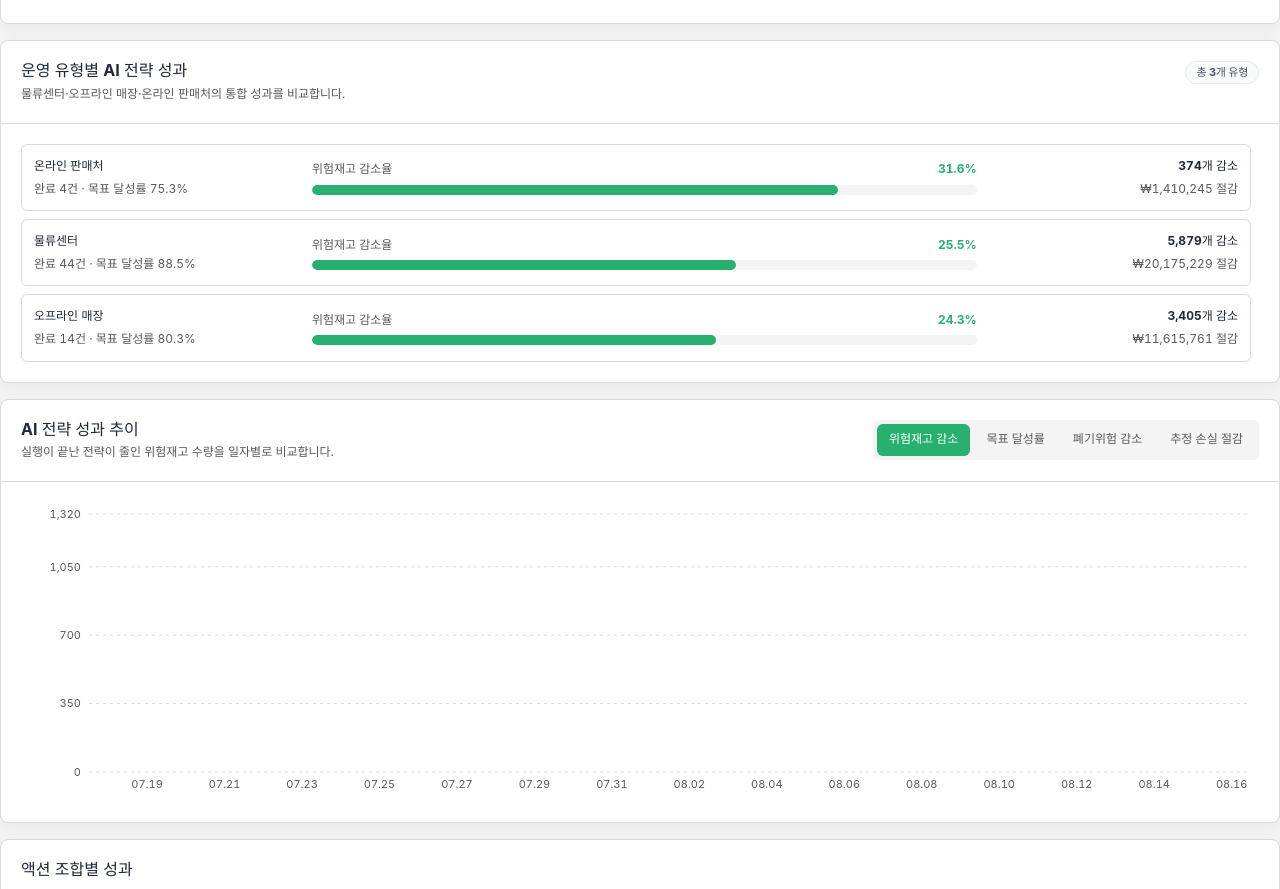
Test case: StatisticsPageContent › AI 전략 지표마다 의미에 맞는 서로 다른 차트를 보여준다
The image size is (1280, 889).
(page scrolled)
Expected: the picture named "위험재고 감소 일별 막대 차트" is shown, [21,502,1259,802]
Click the button "목표 달성률" at (1016, 440), box [974,424,1057,456]
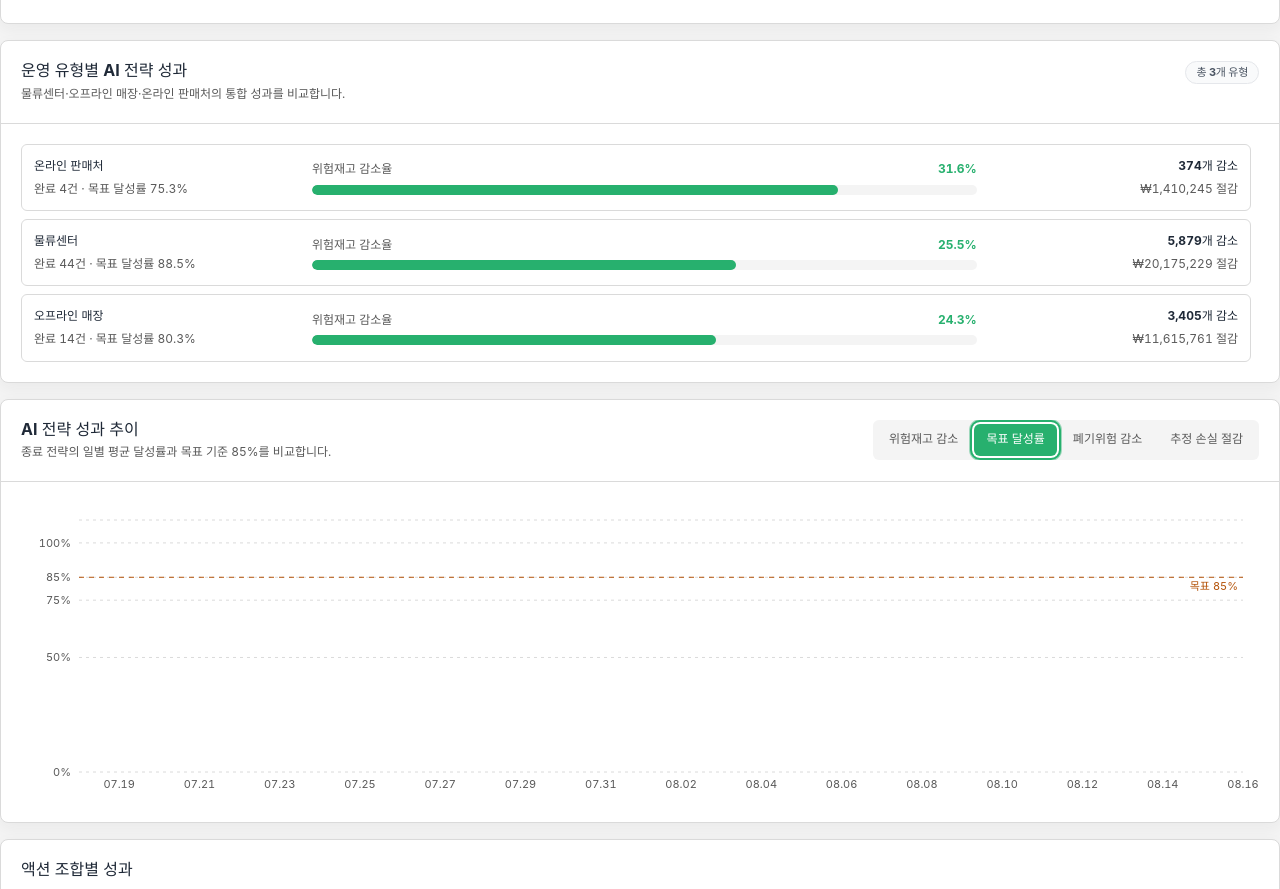
Result: the picture named "목표 달성률 목표선 비교 차트" is shown at [21,502,1259,802]
Click the button "폐기위험 감소" at (1108, 440), box [1061,424,1154,456]
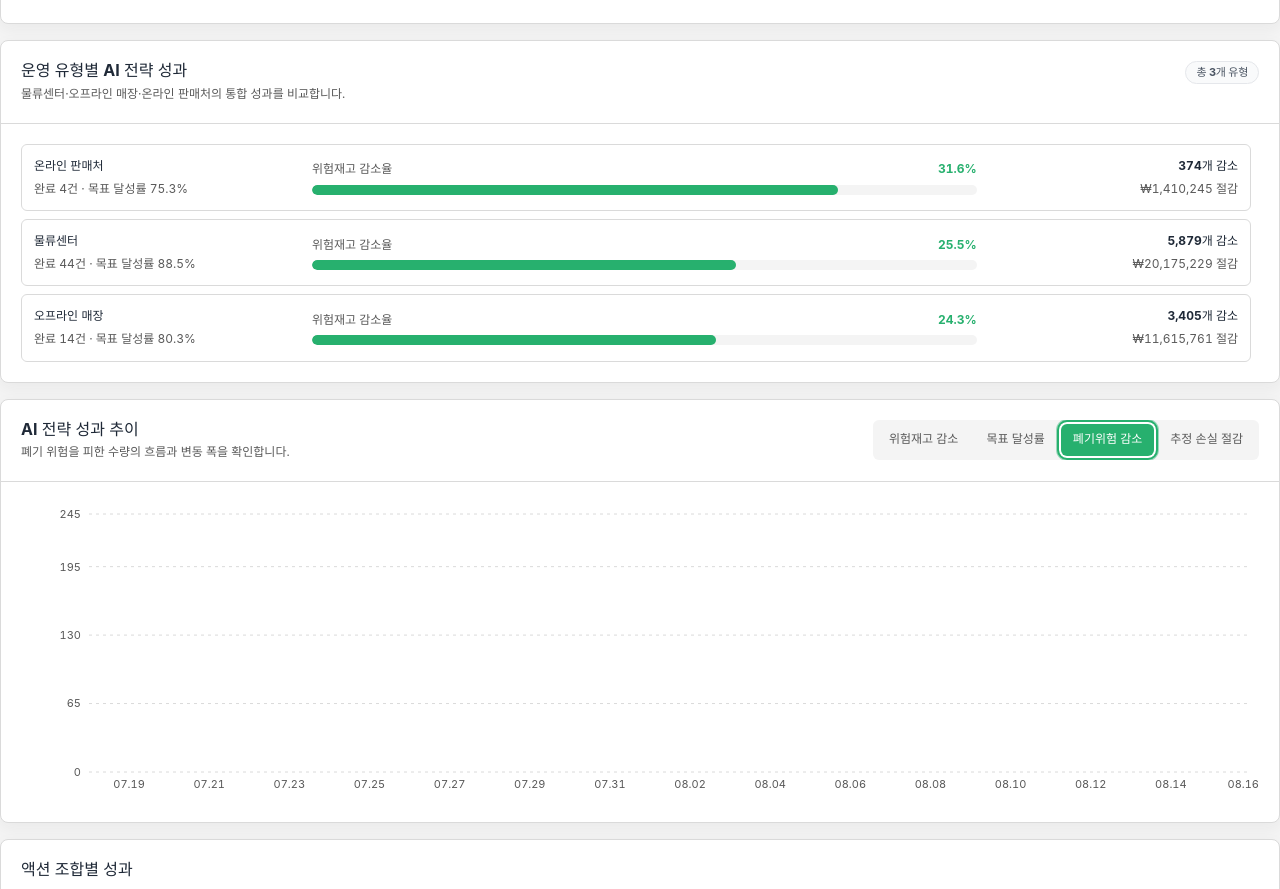
Result: the picture named "폐기위험 감소 영역 차트" is shown at [21,502,1259,802]
Click the button "추정 손실 절감" at (1207, 440), box [1158,424,1255,456]
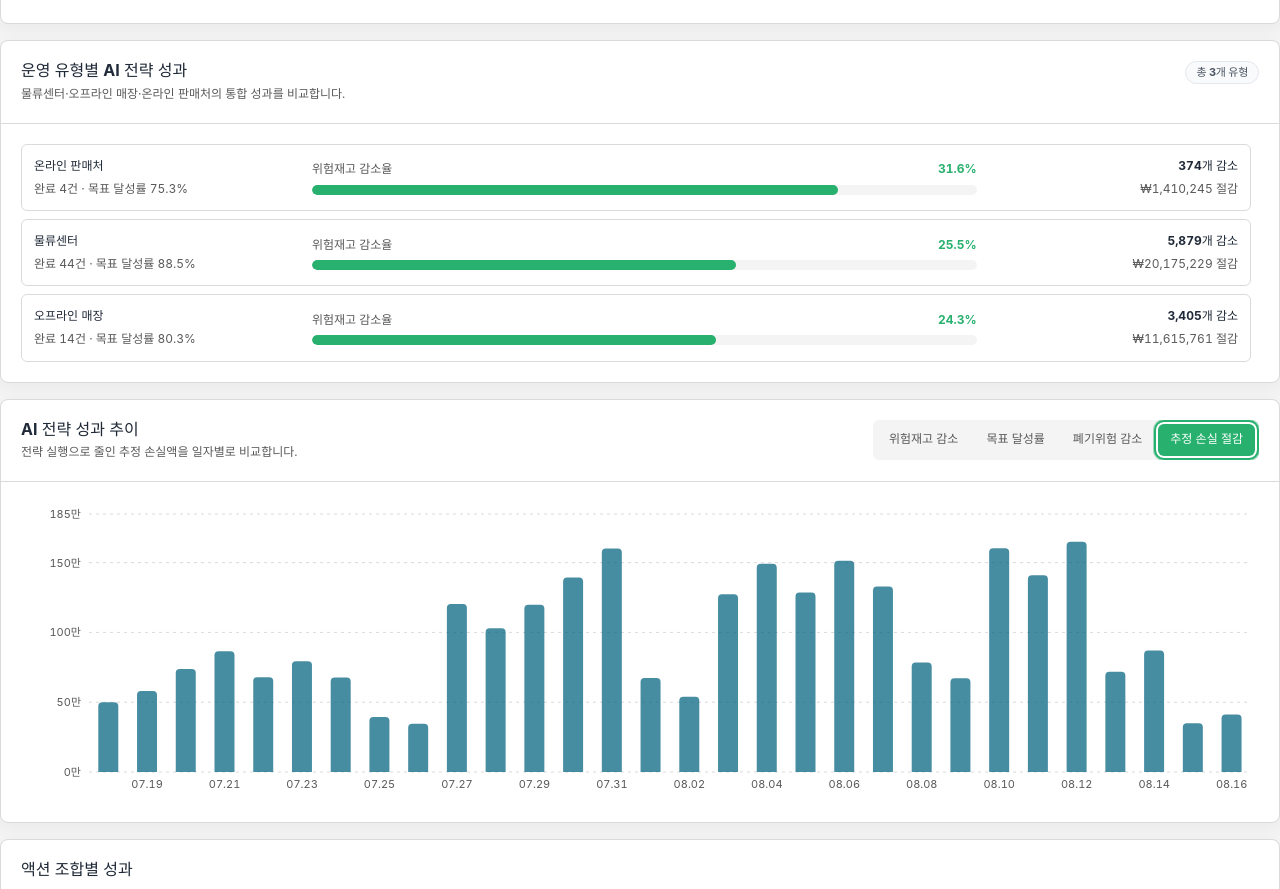
Result: the picture named "일별 추정 손실 절감 막대 차트" is shown at [21,502,1259,802]
